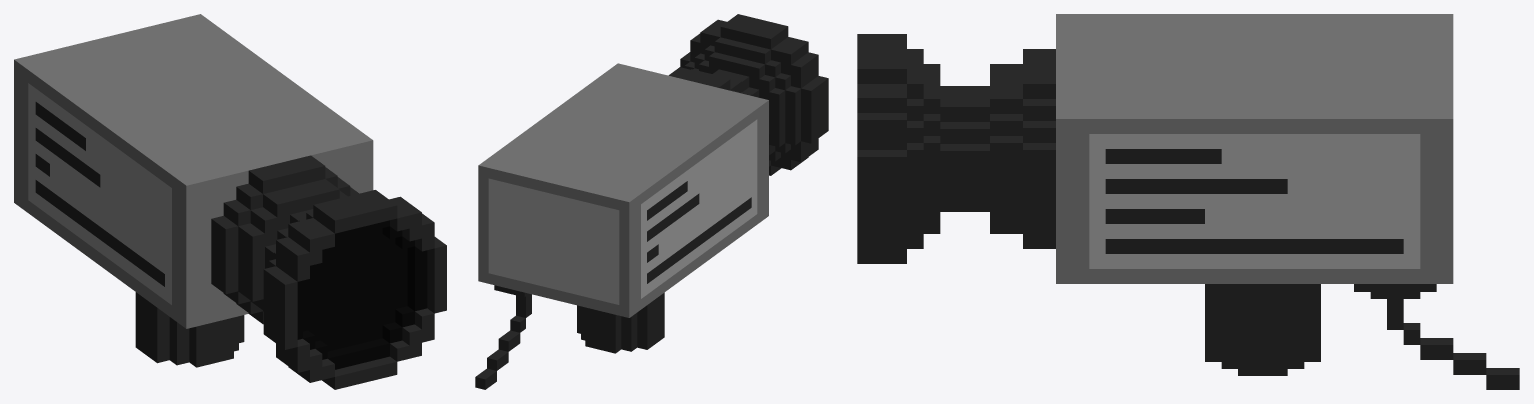
The model's file is SecurityCamera.obj.
3 views of the same model, side by side, from view 1: azimuth 30°, elevation 25°; view 2: azimuth 150°, elevation 25°; view 3: azimuth 270°, elevation 25° (orthographic). The views are drawn at different scales.
Parts seen in each view (by area): view 1: SecurityCamera; view 2: SecurityCamera; view 3: SecurityCamera.
Part boxes in pixels (x1,y1,x2,y2): SecurityCamera: (14, 14, 446, 389); SecurityCamera: (475, 14, 828, 389); SecurityCamera: (857, 14, 1519, 389).
Size of the model in its own units: 15 by 20 by 40.
1 material, 1 textured.
